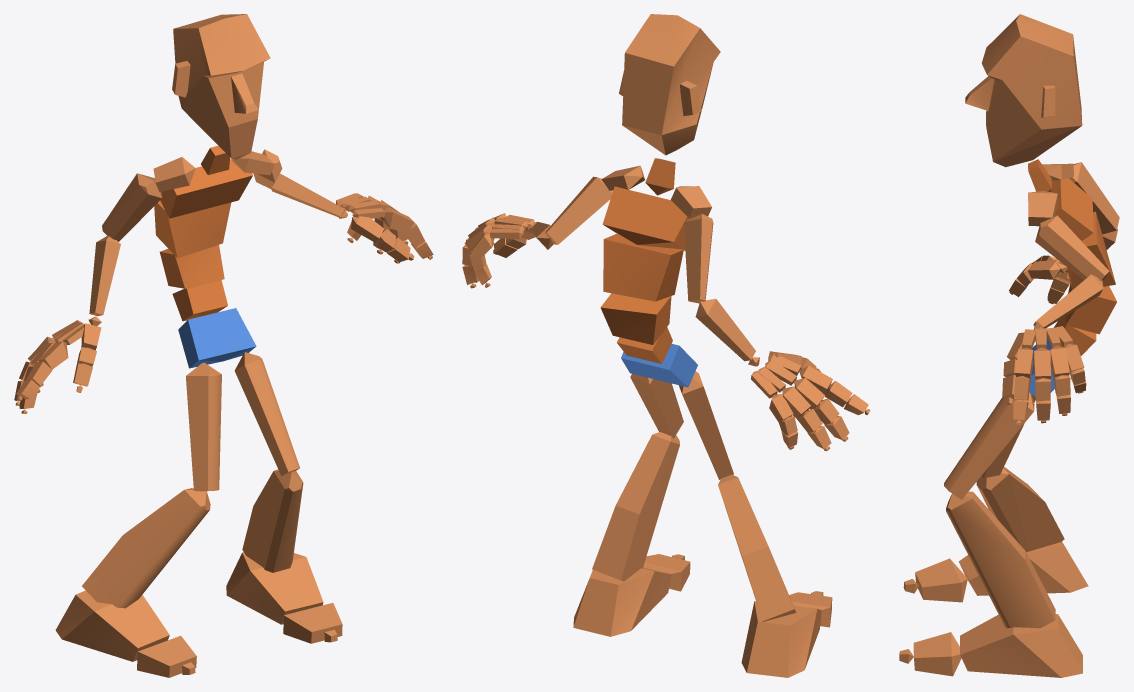
File: prueba202.obj
3 views of the same model, side by side, from view 1: azimuth 30°, elevation 25°; view 2: azimuth 150°, elevation 25°; view 3: azimuth 270°, elevation 25° (orthographic). The views are drawn at different scales.
Parts seen in each view (by area): view 1: BOPED_Head, BOPED_R_leg, BOPED_R_foot, BOPED_L_leg, BOPED_R_foot01, BOPED_R_legup, BOPED_L_legup, Bone01, Bone04, Bone05, BOPED_R_arm_upper, Bone03 (+7 smaller); view 2: BOPED_Head, BOPED_L_leg, BOPED_R_foot01, BOPED_R_leg, BOPED_R_foot, Bone04, Bone05, Bone03, BOPED_R_legup, BOPED_R_arm_upper, BOPED_L_legup, BOPED_L_arm_upper (+8 smaller); view 3: BOPED_Head, BOPED_L_leg, BOPED_R_foot01, BOPED_R_leg, BOPED_L_legup, BOPED_R_foot, BOPED_L_arm_upper, Bone05, BOPED_R_foot_toe01, BOPED_R_foot_toe04, Bone03, BOPED_L_arm_fore (+14 smaller).
Part boxes in pixels (left/top/right/bottom): BOPED_Head: left=172, top=14, right=270, bottom=159; BOPED_R_leg: left=82, top=488, right=210, bottom=608; BOPED_R_foot: left=55, top=590, right=169, bottom=661; BOPED_L_leg: left=242, top=469, right=303, bottom=572; BOPED_R_foot01: left=226, top=552, right=323, bottom=624; BOPED_R_legup: left=186, top=362, right=221, bottom=491; BOPED_L_legup: left=234, top=352, right=299, bottom=475; Bone01: left=178, top=308, right=256, bottom=368; Bone04: left=154, top=200, right=231, bottom=258; Bone05: left=160, top=158, right=252, bottom=218; BOPED_R_arm_upper: left=102, top=173, right=161, bottom=241; Bone03: left=159, top=245, right=224, bottom=288; BOPED_Head: left=619, top=14, right=720, bottom=155; BOPED_L_leg: left=592, top=432, right=679, bottom=581; BOPED_R_foot01: left=573, top=567, right=671, bottom=636; BOPED_R_leg: left=718, top=474, right=796, bottom=621; BOPED_R_foot: left=741, top=601, right=821, bottom=677; Bone04: left=603, top=233, right=683, bottom=301; Bone05: left=602, top=186, right=691, bottom=250; Bone03: left=600, top=293, right=671, bottom=344; BOPED_R_legup: left=679, top=371, right=733, bottom=479; BOPED_R_arm_upper: left=684, top=214, right=713, bottom=303; BOPED_L_legup: left=630, top=374, right=683, bottom=438; BOPED_L_arm_upper: left=545, top=176, right=612, bottom=244; BOPED_Head: left=965, top=14, right=1082, bottom=167; BOPED_L_leg: left=946, top=491, right=1055, bottom=628; BOPED_R_foot01: left=960, top=614, right=1082, bottom=677; BOPED_R_leg: left=976, top=467, right=1064, bottom=552; BOPED_L_legup: left=944, top=392, right=1034, bottom=499; BOPED_R_foot: left=958, top=542, right=1088, bottom=595; BOPED_L_arm_upper: left=1035, top=215, right=1109, bottom=280; Bone05: left=1051, top=178, right=1093, bottom=240; BOPED_R_foot_toe01: left=915, top=558, right=967, bottom=602; BOPED_R_foot_toe04: left=913, top=632, right=961, bottom=676; Bone03: left=1065, top=283, right=1116, bottom=334; BOPED_L_arm_fore: left=1033, top=274, right=1103, bottom=328.
Bounding box in the file's own units: 130 × 183 × 59.23.
